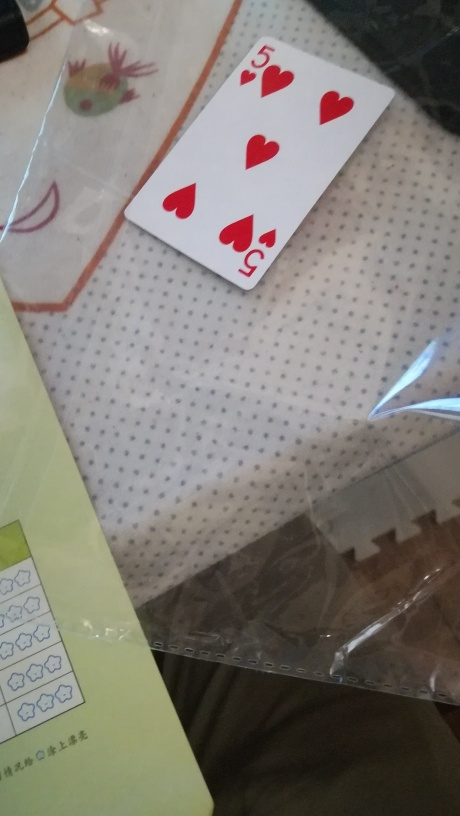hx 5: (121, 31, 394, 295)
